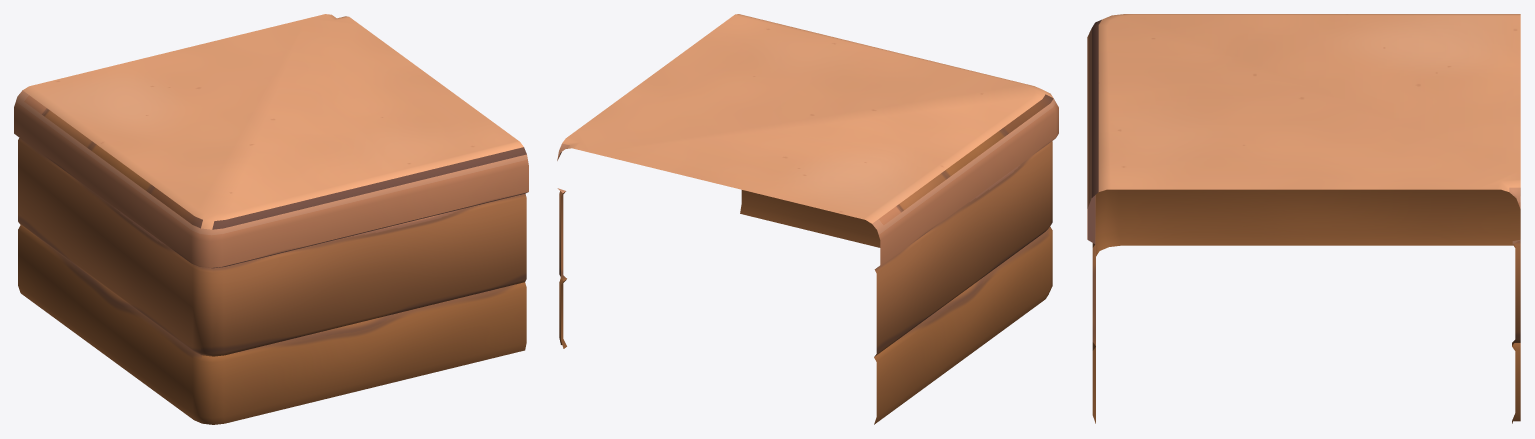
File: ground_corner.glb
3 views of the same model, side by side, from view 1: azimuth 30°, elevation 25°; view 2: azimuth 150°, elevation 25°; view 3: azimuth 270°, elevation 25° (orthographic). The views are drawn at different scales.
Parts seen in each view (by area): view 1: ground_corner; view 2: ground_corner; view 3: ground_corner.
Part boxes in pixels (x1,y1,x2,y2): ground_corner: [14, 14, 528, 424]; ground_corner: [557, 14, 1058, 424]; ground_corner: [1087, 14, 1520, 423].
Size of the model in its own units: 1 by 0.6 by 1.
2 materials, 2 textured.
